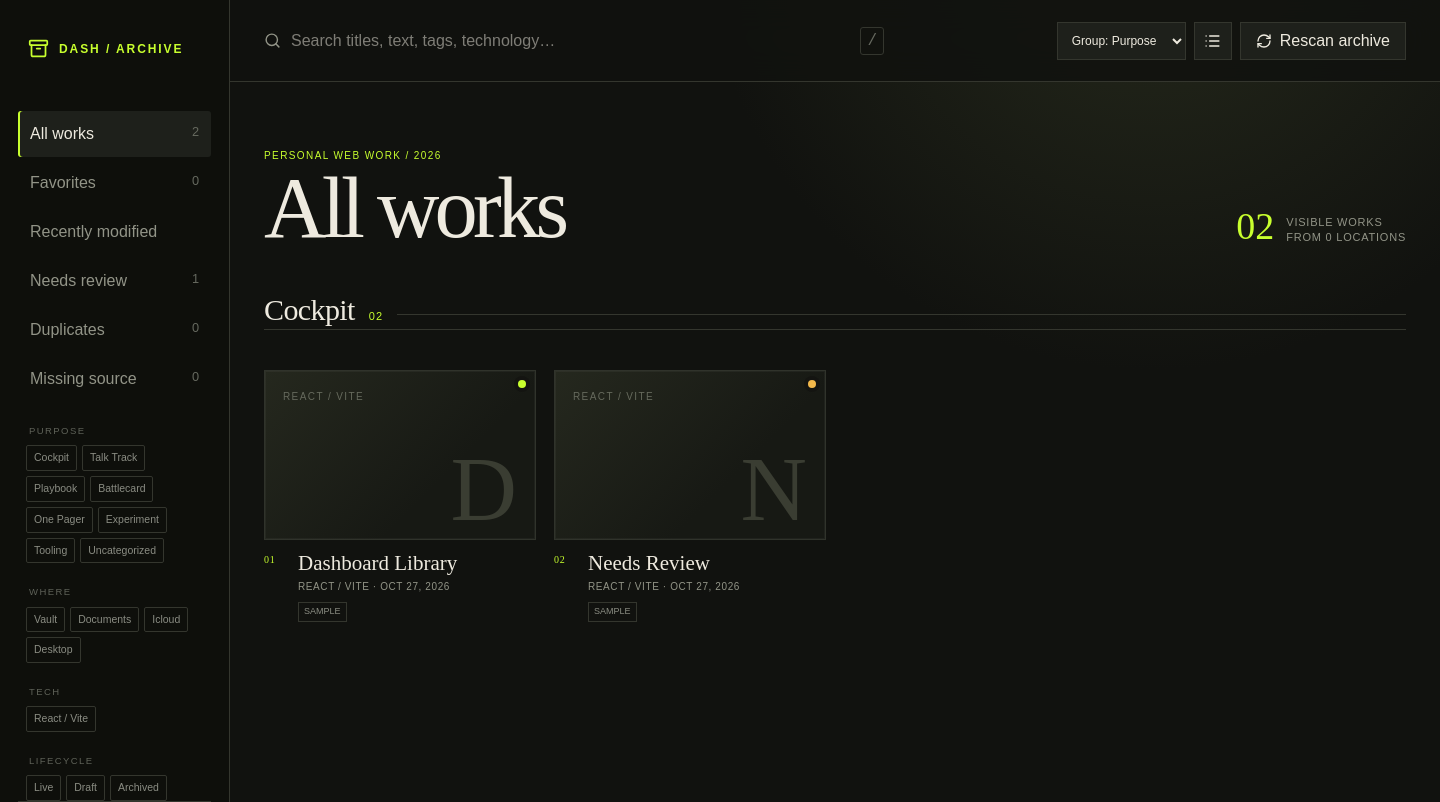
it: dashboard archive interface › shows only uncertain discoveries in review view
Check: the button "Dashboard Library" is shown, box [298, 552, 457, 574]
Click the button with aria-label "filter: needs review".
click(114, 281)  # box [18, 258, 211, 304]
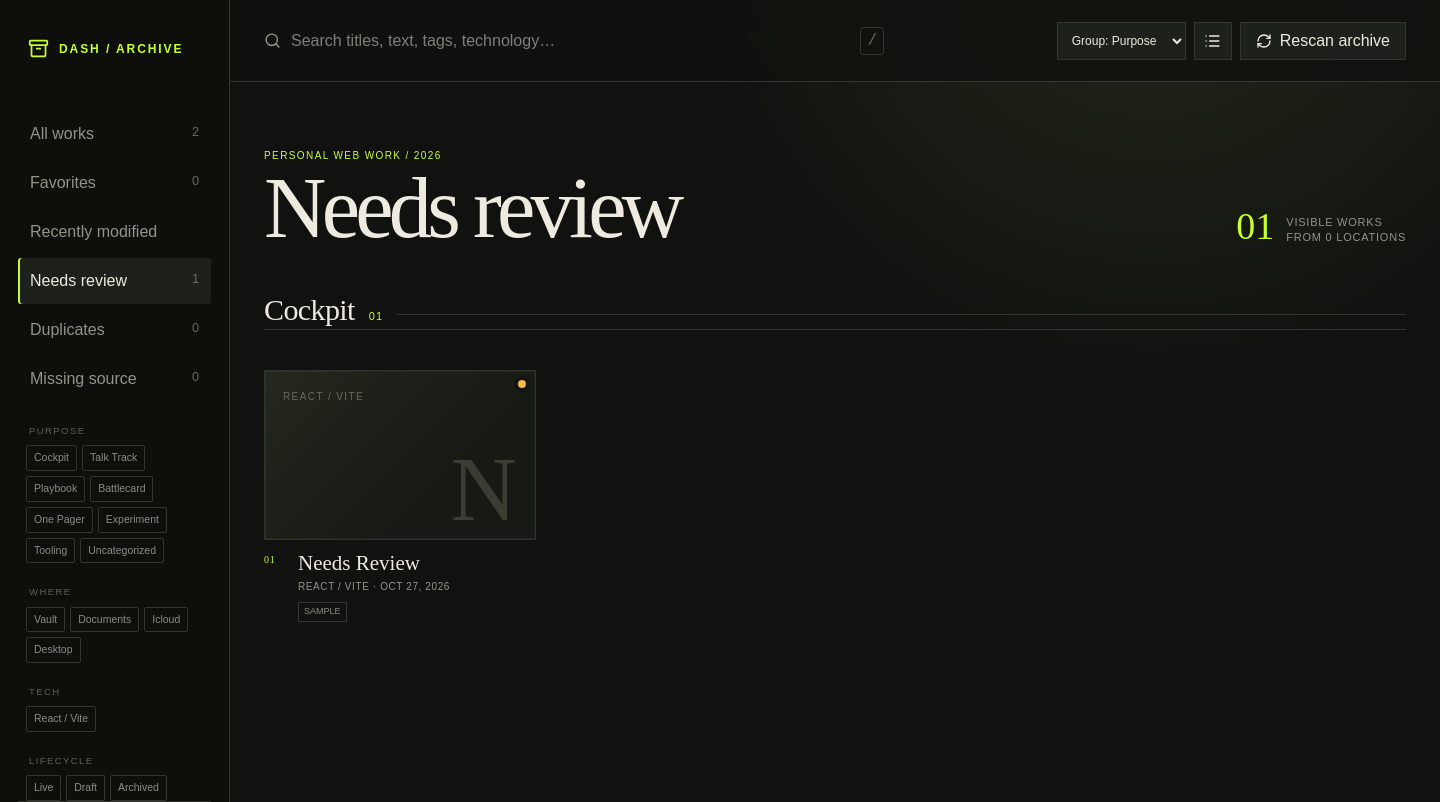
Check: the button "Needs Review" is shown, box [298, 552, 420, 574]
Check: the button "Dashboard Library" is gone
